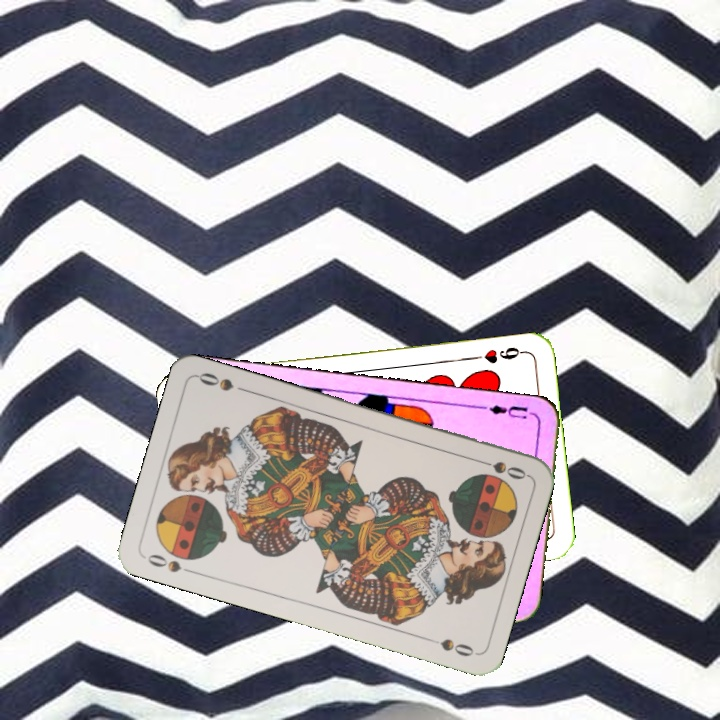EU: (478, 401, 537, 422)
H9: (469, 342, 528, 366)
SO: (472, 455, 530, 482), (143, 550, 199, 577)
